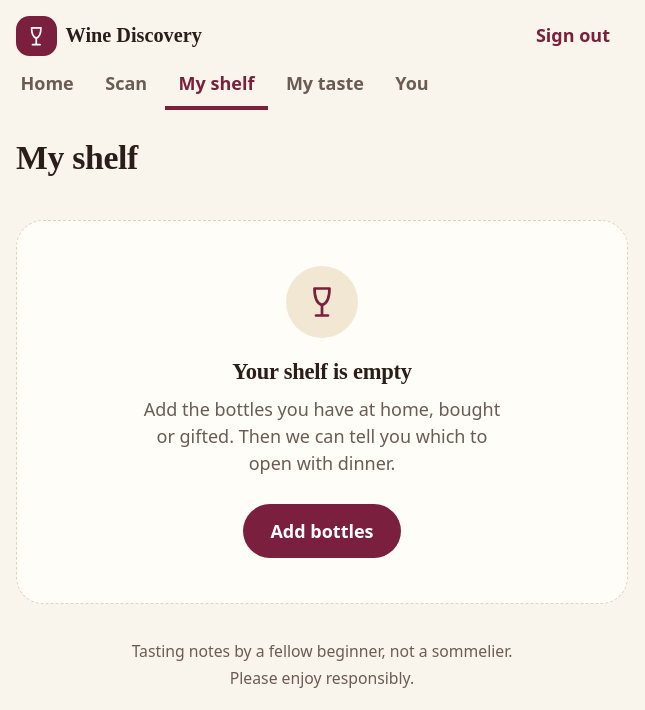
Test: My shelf › starts empty, with a friendly way to add bottles
Expected: the heading "Your shelf is empty" is shown, left=232, top=356, right=412, bottom=387
Click the link "Add bottles": (322, 531) left=243, top=504, right=400, bottom=558
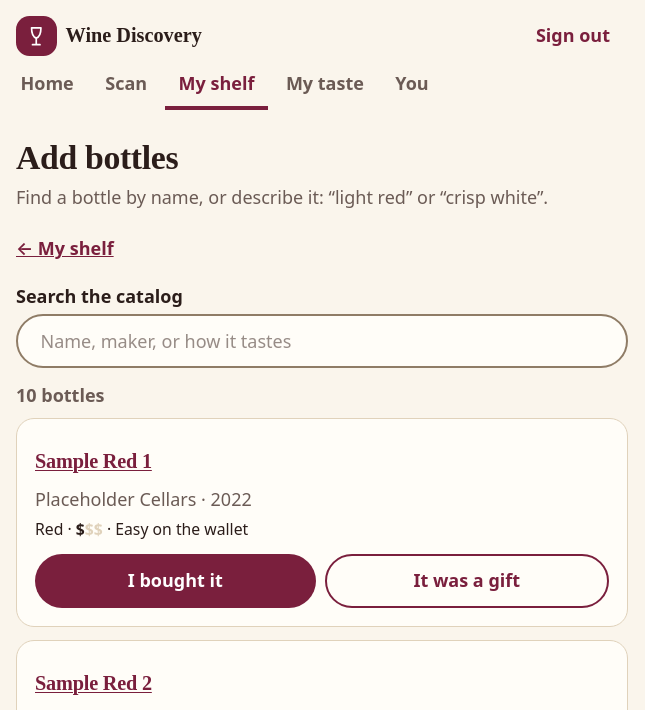
Now the heading "Add bottles" is shown, box left=16, top=139, right=178, bottom=176
Now the text "10 bottles" is shown, box left=16, top=383, right=104, bottom=407
